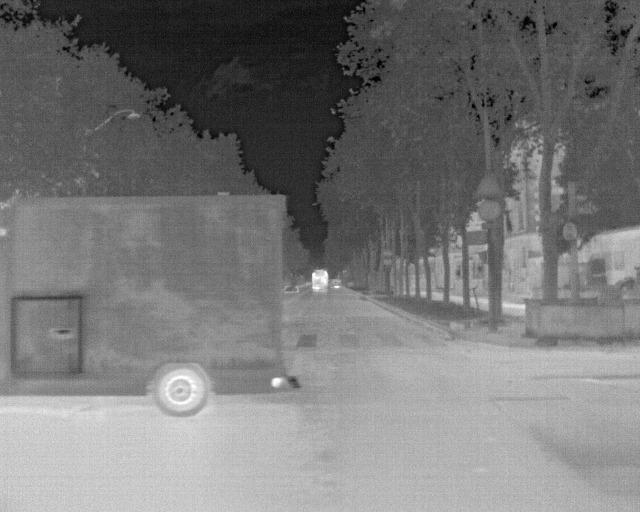car: (0, 195, 292, 416), (312, 269, 329, 289), (329, 279, 341, 289)
light: (572, 179, 588, 218)
sign: (474, 172, 504, 199), (477, 200, 501, 221), (561, 221, 577, 240), (481, 222, 502, 230)
